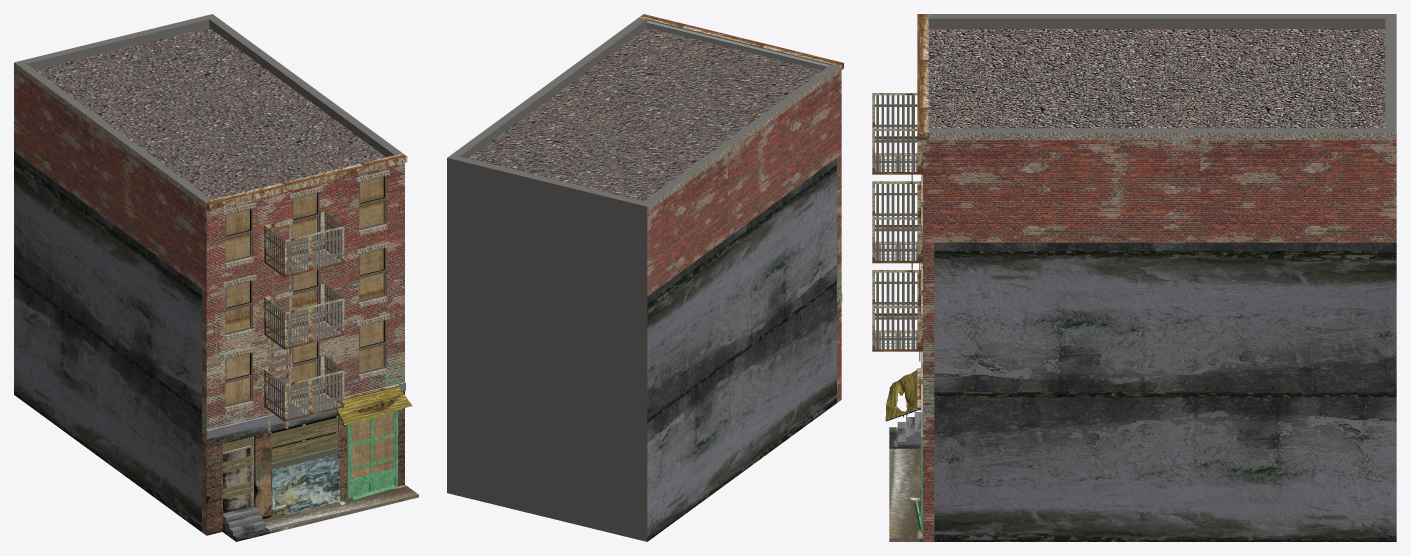
The model's file is realbuilding.gltf.
3 views of the same model, side by side, from view 1: azimuth 30°, elevation 25°; view 2: azimuth 150°, elevation 25°; view 3: azimuth 270°, elevation 25° (orthographic). The views are drawn at different scales.
Visible parts, largest first — view 1: Material3 (×12), Material2 (×4), Material4; view 2: Material3 (×4), Material2 (×3); view 3: Material2 (×4), Material3 (×5).
Part boxes in pixels (x1,y1,x2,y2): Material3 (×12): (14, 14, 418, 535); Material2 (×4): (14, 151, 411, 541); Material4: (206, 391, 404, 535); Material3 (×4): (447, 17, 841, 541); Material2 (×3): (639, 14, 843, 541); Material2 (×4): (872, 14, 1396, 541); Material3 (×5): (889, 14, 1396, 541).
Size of what is drawn, in the model's own units: 300 by 480 by 558.
22 materials, 16 textured.
